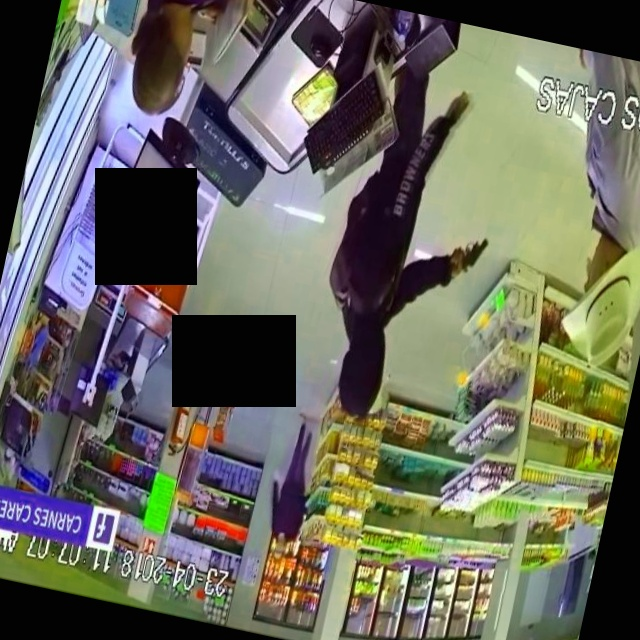gun: (451, 212, 498, 298)
